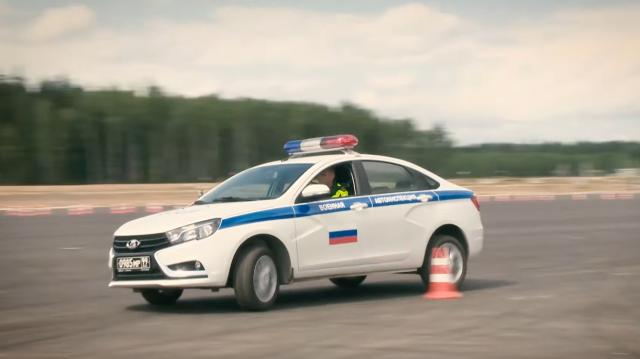police car: (105, 131, 491, 319)
